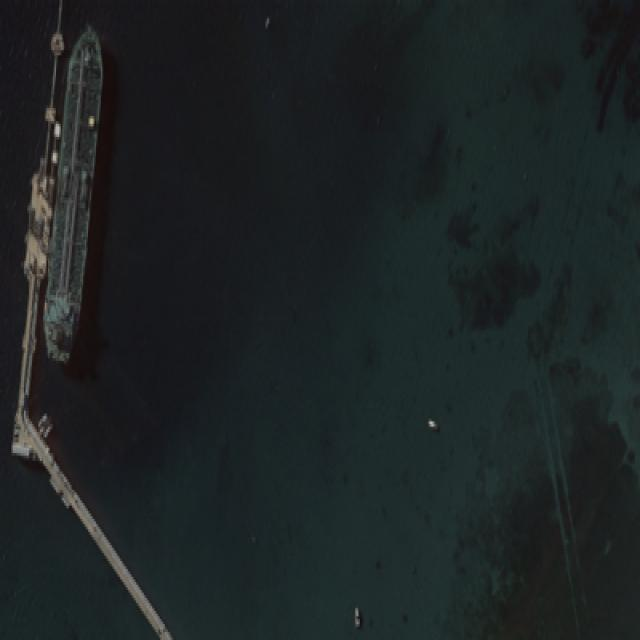boat: (42, 21, 102, 364), (427, 416, 437, 427), (354, 603, 358, 622), (264, 16, 269, 24)
